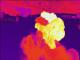Foc: (32, 11, 66, 52)
